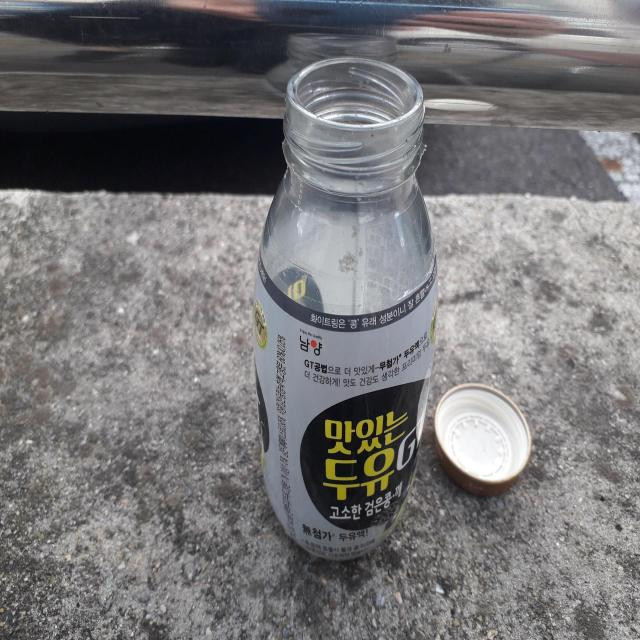glass: (252, 58, 439, 560)
